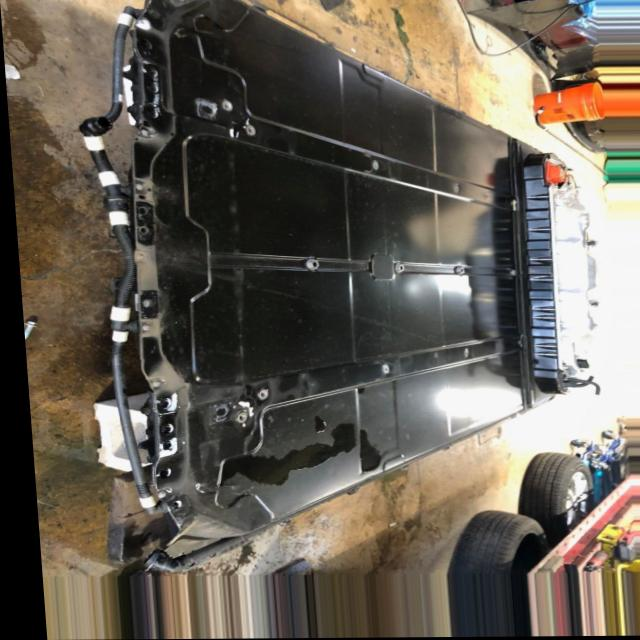Nut: (442, 266, 475, 283), (385, 259, 407, 279), (298, 257, 320, 273), (132, 295, 150, 312), (503, 265, 520, 280)
Screw: (438, 348, 475, 360), (245, 386, 271, 403), (238, 121, 256, 144), (355, 159, 382, 174), (442, 181, 463, 200), (224, 409, 245, 428), (373, 363, 393, 375), (219, 101, 235, 113)
